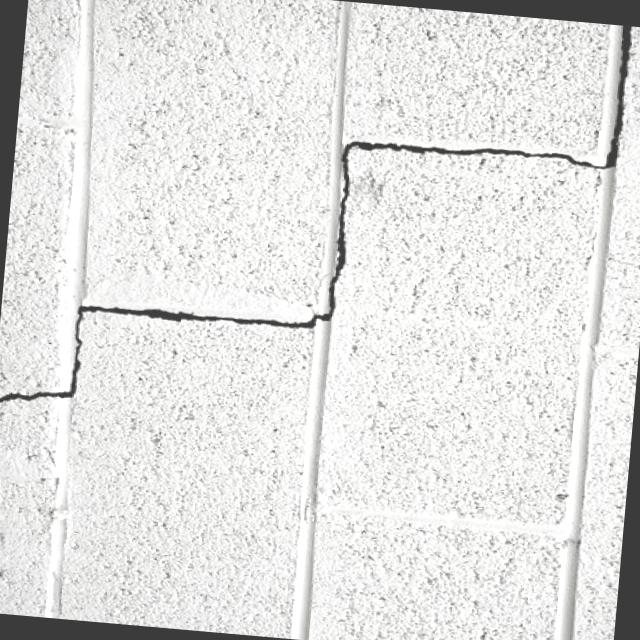crack: (336, 132, 591, 176), (73, 298, 302, 342), (302, 154, 354, 336), (0, 316, 86, 414), (588, 24, 636, 180)
